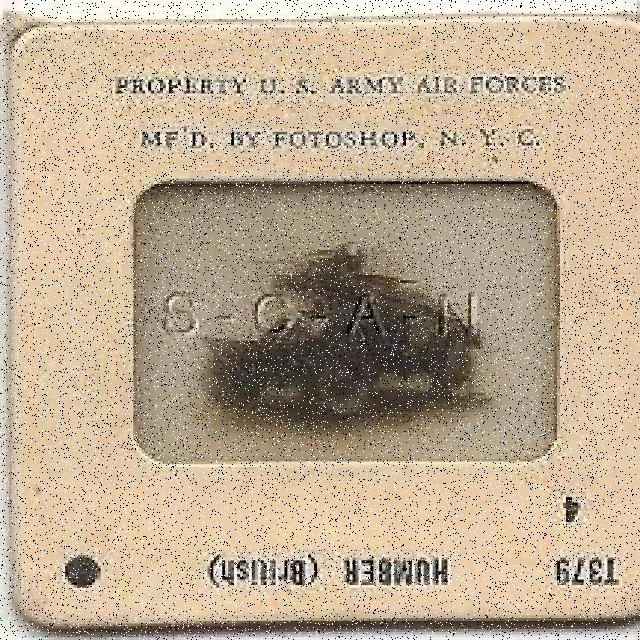MIL_MBT: (188, 220, 523, 439)
